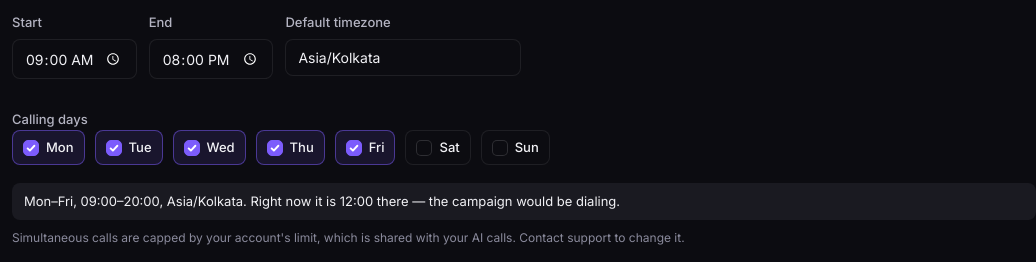
Test: calling hours › toggles a day and echoes the window it describes
Expected: the text with test id "calling-window-echo" shows "Mon–Fri, 09:00–20:00, Asia/Kolkata.", [24,193,620,209]
Step 1. Click the checkbox labelled "Sat" → (424, 148), box [416,140,432,156]
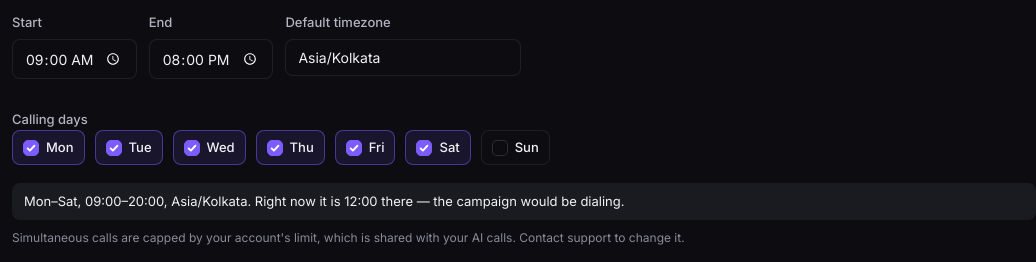
Expected: the text with test id "calling-window-echo" shows "Right now it is 12:00 there — the campaign would be dialing.", [24,193,624,209]
Expected: the text with test id "calling-window-echo" shows "Mon–Sat", [24,193,624,209]
